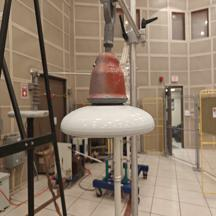insulator: (57, 50, 157, 143)
